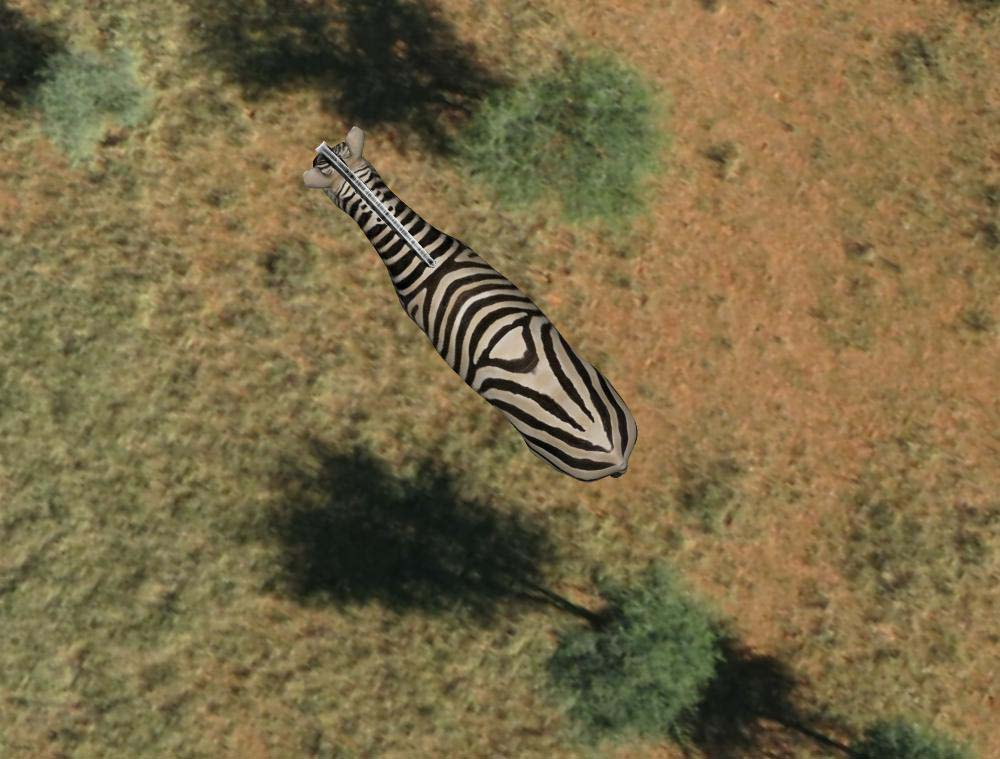zebra: (299, 123, 642, 488)
